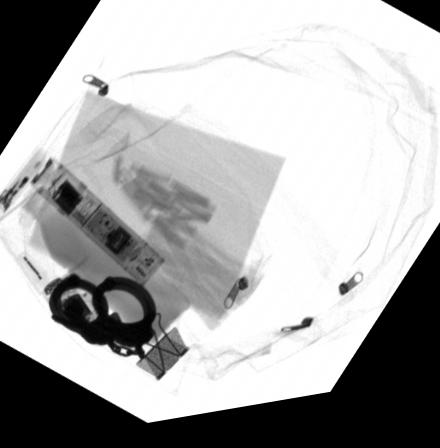Baton: (28, 156, 165, 290)
HandCuffs: (46, 276, 156, 365)
Lighter: (0, 147, 47, 212)
